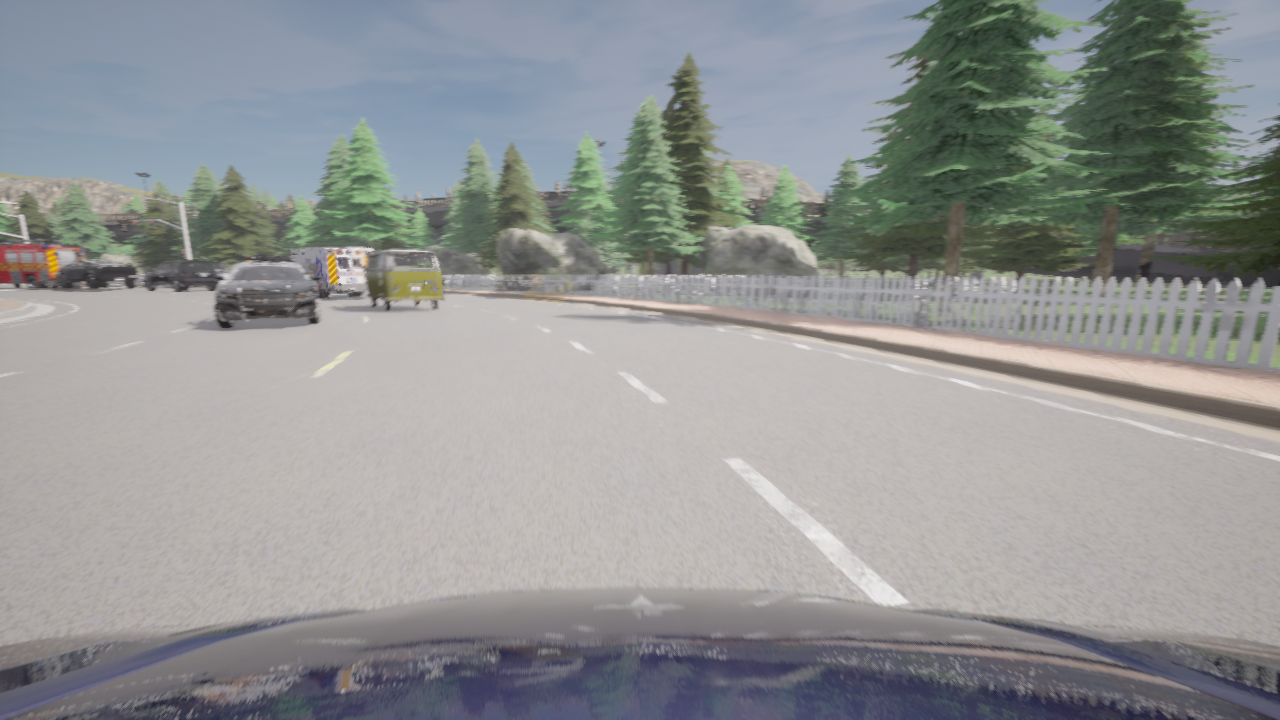cyclist: (0, 588, 1279, 719), (214, 255, 320, 328), (362, 249, 443, 311), (0, 239, 87, 288), (289, 247, 372, 297), (142, 261, 219, 291), (58, 260, 137, 288), (32, 272, 82, 287), (203, 269, 229, 288), (165, 286, 196, 288)
